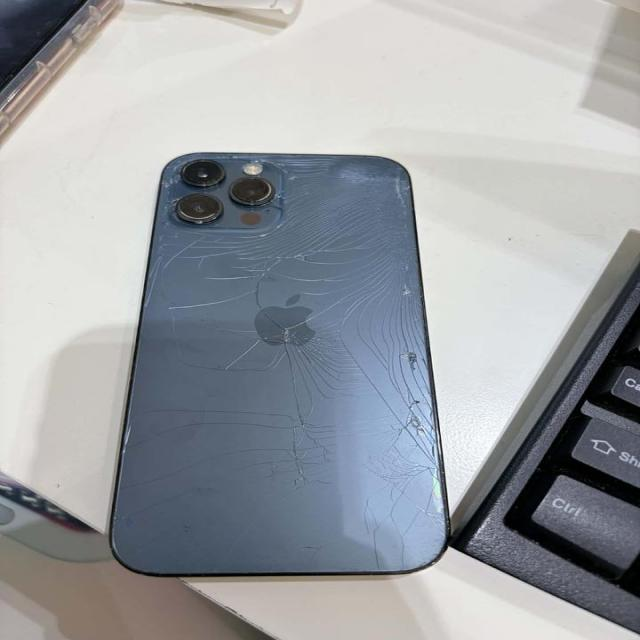gen_12_13: (114, 141, 452, 584)
